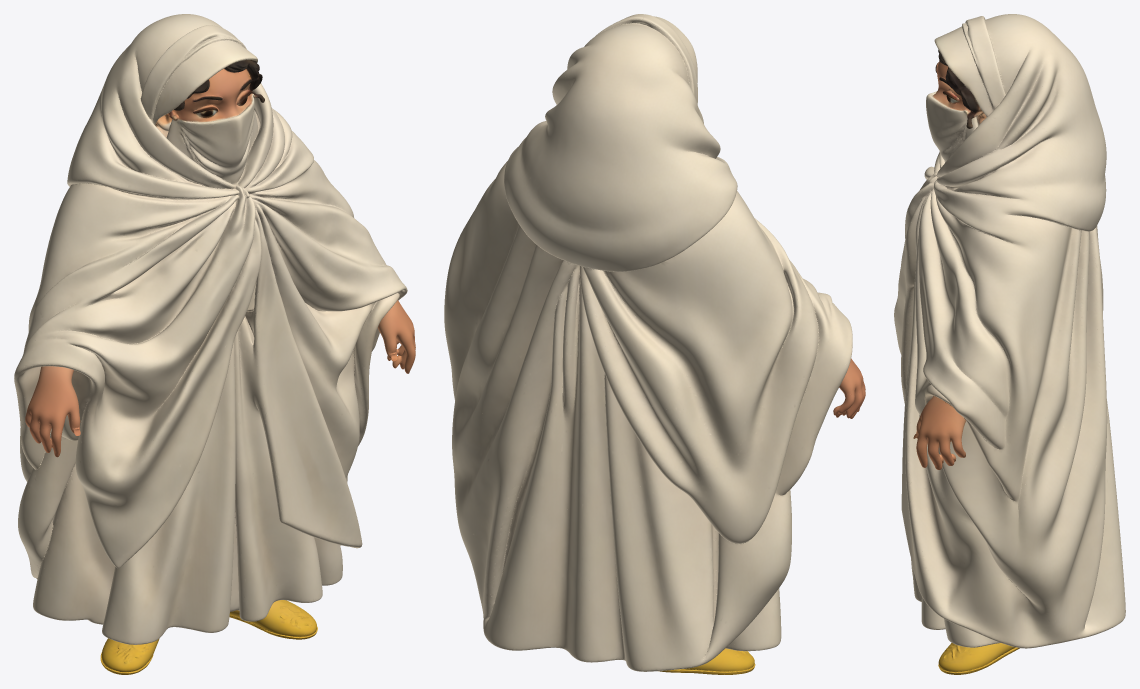
Rendered from aicha_haik__base_basic_pbr.glb.
The picture shows the model from 3 angles, left to right: view 1: azimuth 30°, elevation 25°; view 2: azimuth 150°, elevation 25°; view 3: azimuth 270°, elevation 25°; orthographic projection. The views are drawn at different scales.
Visible parts, largest first — view 1: model; view 2: model; view 3: model.
Boxes of the visible parts, left/top/right/bottom form: model: left=14, top=14, right=415, bottom=674; model: left=444, top=14, right=865, bottom=674; model: left=894, top=14, right=1125, bottom=674.
Bounding box in the file's own units: 1.25 × 1.9 × 0.657.
1 material, 1 textured.
